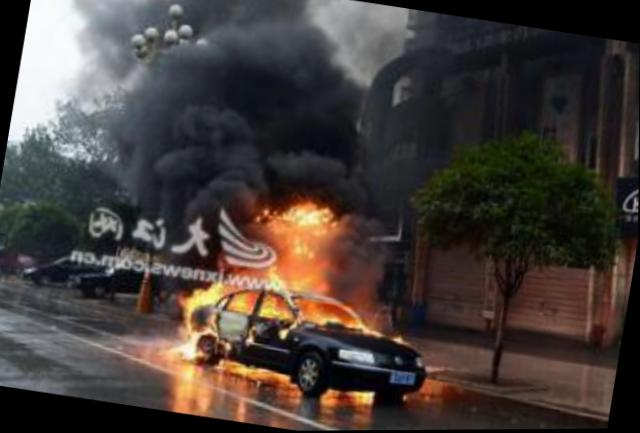fire: (273, 199, 344, 291), (218, 360, 295, 384), (301, 298, 358, 326), (188, 277, 228, 306), (329, 384, 375, 403), (230, 285, 261, 311), (264, 292, 295, 316), (183, 329, 206, 359)
